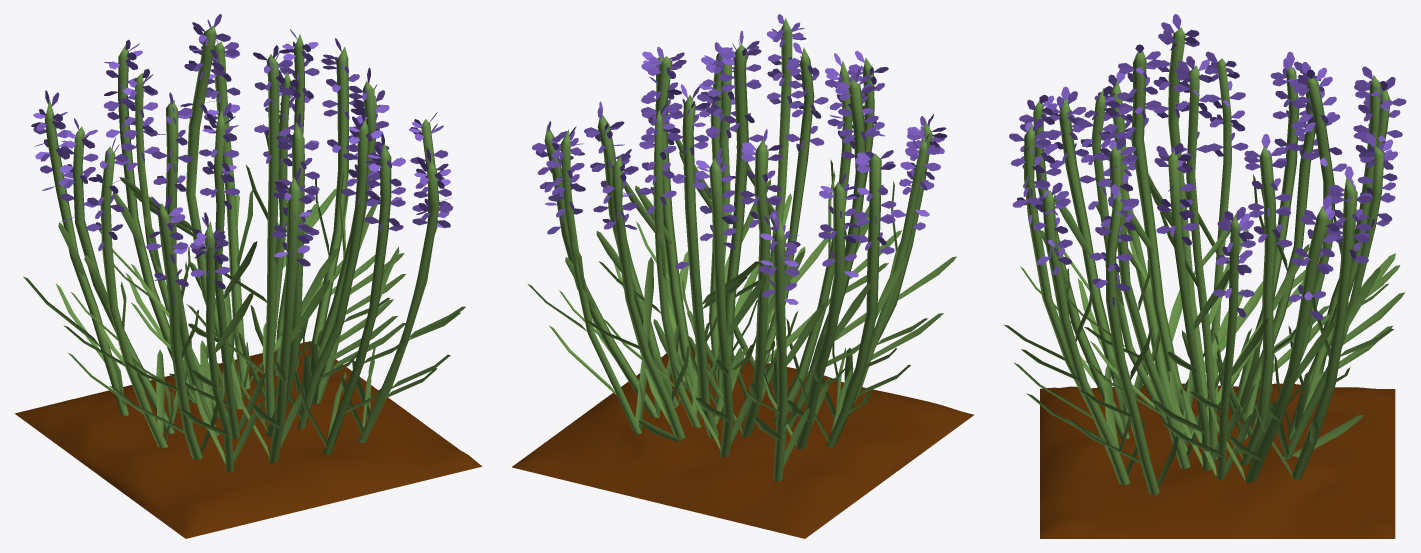
File: lavender-p3-leaf.glb
The picture shows the model from 3 angles, left to right: view 1: azimuth 30°, elevation 25°; view 2: azimuth 150°, elevation 25°; view 3: azimuth 270°, elevation 25°; orthographic projection. The views are drawn at different scales.
Parts seen in each view (by area): view 1: 3_nft_out_of_bloom; view 2: 3_nft_out_of_bloom; view 3: 3_nft_out_of_bloom.
Part boxes in pixels (box(x1,y1,x2,y2)): 3_nft_out_of_bloom: box(14, 14, 482, 538); 3_nft_out_of_bloom: box(512, 14, 974, 538); 3_nft_out_of_bloom: box(1004, 14, 1406, 538).
Bounding box in the file's own units: 0.7822 × 0.9034 × 0.7947.
